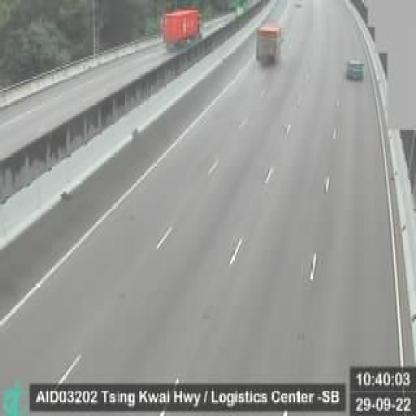Car: (343, 57, 365, 82)
Truck: (157, 5, 207, 56), (250, 17, 287, 68)
